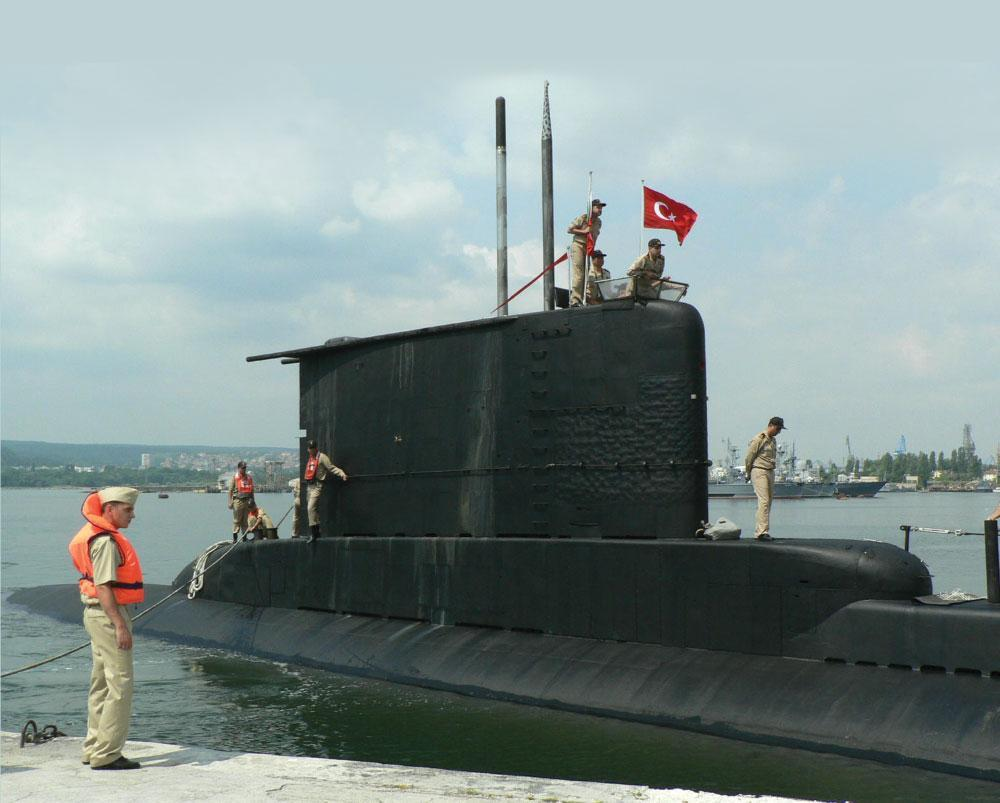Submarine: (168, 106, 1000, 803)
